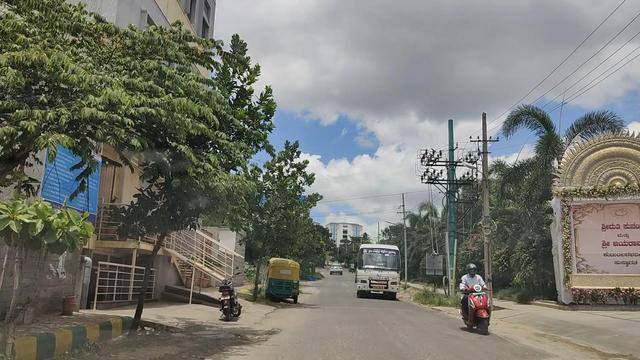HMV: (353, 235, 404, 304)
RoadDamages: (174, 318, 258, 355)
